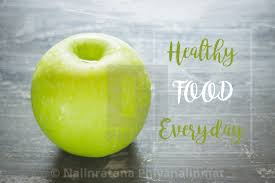apple: (35, 38, 146, 157)
